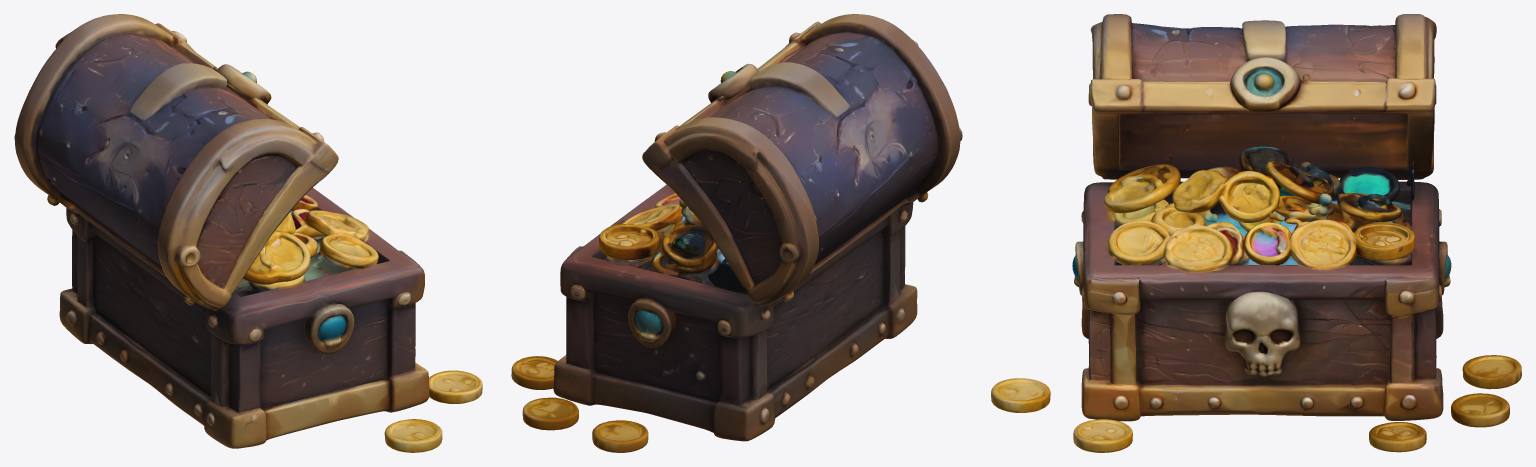
The model's file is prop-pirate-chest.glb.
3 views of the same model, side by side, from view 1: azimuth 30°, elevation 25°; view 2: azimuth 150°, elevation 25°; view 3: azimuth 270°, elevation 25° (orthographic). The views are drawn at different scales.
Visible parts, largest first — view 1: tripo_node_1c39cd6e-6323-4434-998f-77cdc0f44a7c; view 2: tripo_node_1c39cd6e-6323-4434-998f-77cdc0f44a7c; view 3: tripo_node_1c39cd6e-6323-4434-998f-77cdc0f44a7c.
Part boxes in pixels (x1=…): tripo_node_1c39cd6e-6323-4434-998f-77cdc0f44a7c: x1=14, y1=14, x2=482, y2=452; tripo_node_1c39cd6e-6323-4434-998f-77cdc0f44a7c: x1=511, y1=14, x2=962, y2=452; tripo_node_1c39cd6e-6323-4434-998f-77cdc0f44a7c: x1=991, y1=14, x2=1521, y2=452.
Size of the model in its own units: 1.03 by 1 by 1.49.
Materials: 1 (1 with a texture image).
